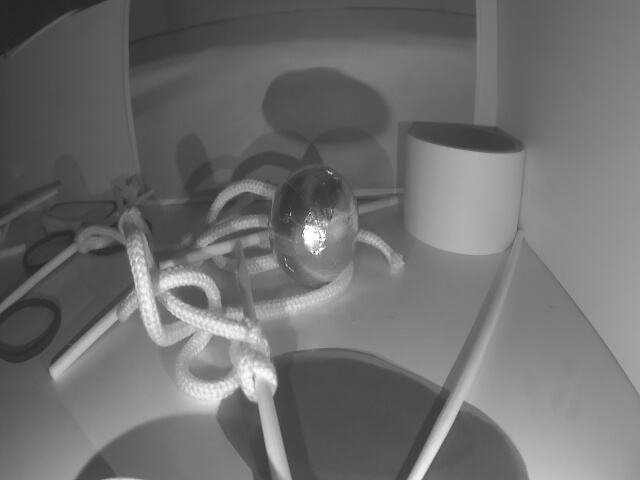Live: (270, 168, 360, 282)
